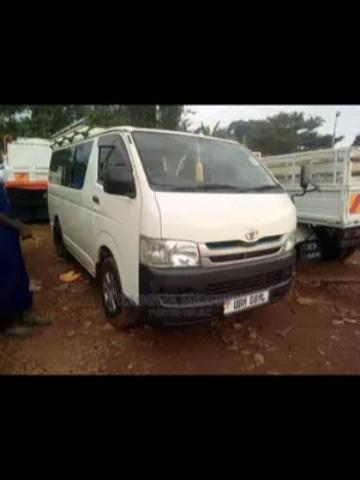van: (44, 125, 297, 322)
